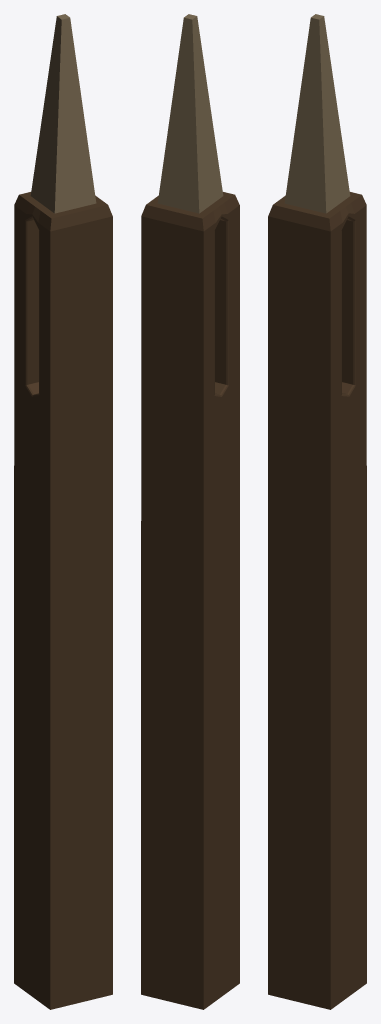
Rendered from BGBuilding3.fbx.
3 renders of one model, left to right at view 1: azimuth 30°, elevation 25°; view 2: azimuth 150°, elevation 25°; view 3: azimuth 330°, elevation 25°, orthographic.
Parts seen in each view (by area): view 1: BG2; view 2: BG2; view 3: BG2.
Part boxes in pixels (box(x1,y1,x2,y2)): BG2: box(14, 14, 112, 1009); BG2: box(141, 14, 239, 1009); BG2: box(268, 14, 366, 1009).
Bounding box in the file's own units: 14.87 × 221 × 14.9.
